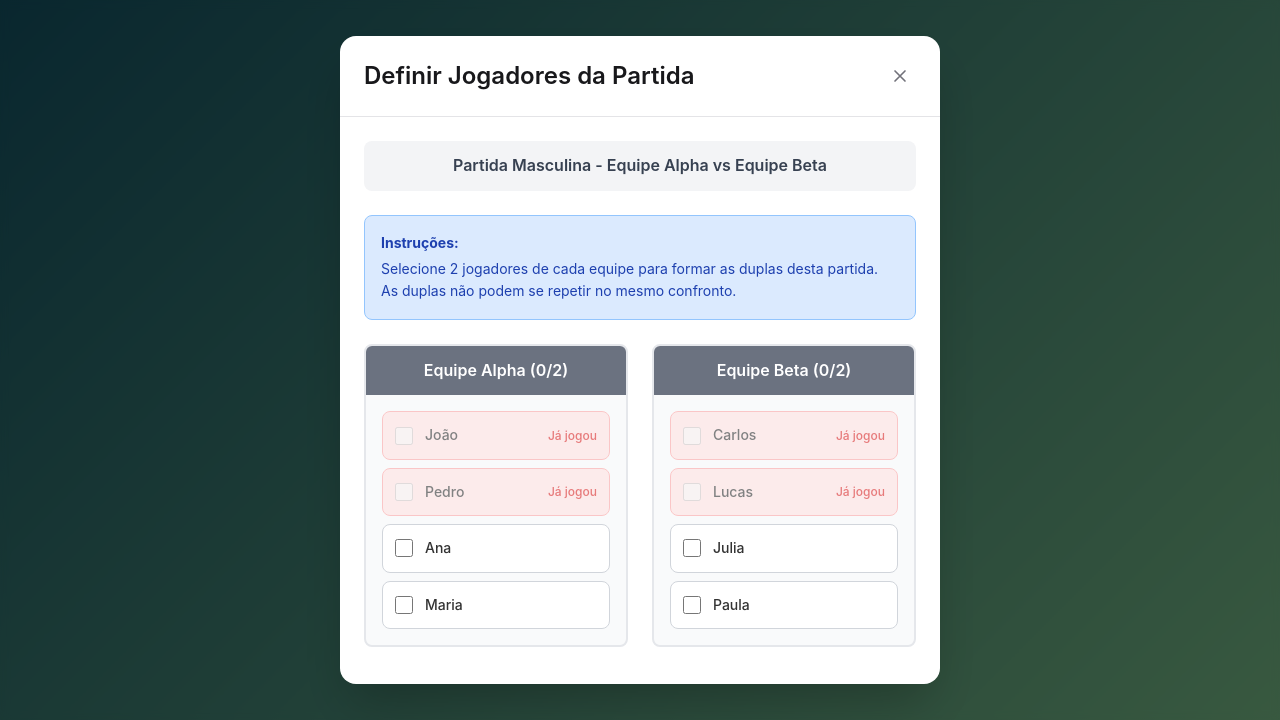
Scenario: ModalDefinirJogadoresPartida › validação de jogadores já usados › deve mostrar erro ao tentar selecionar jogador que já jogou
// Tentar selecionar João que já jogou
Click the checkbox labelled "João Já jogou": (404, 436) [395, 426, 413, 444]
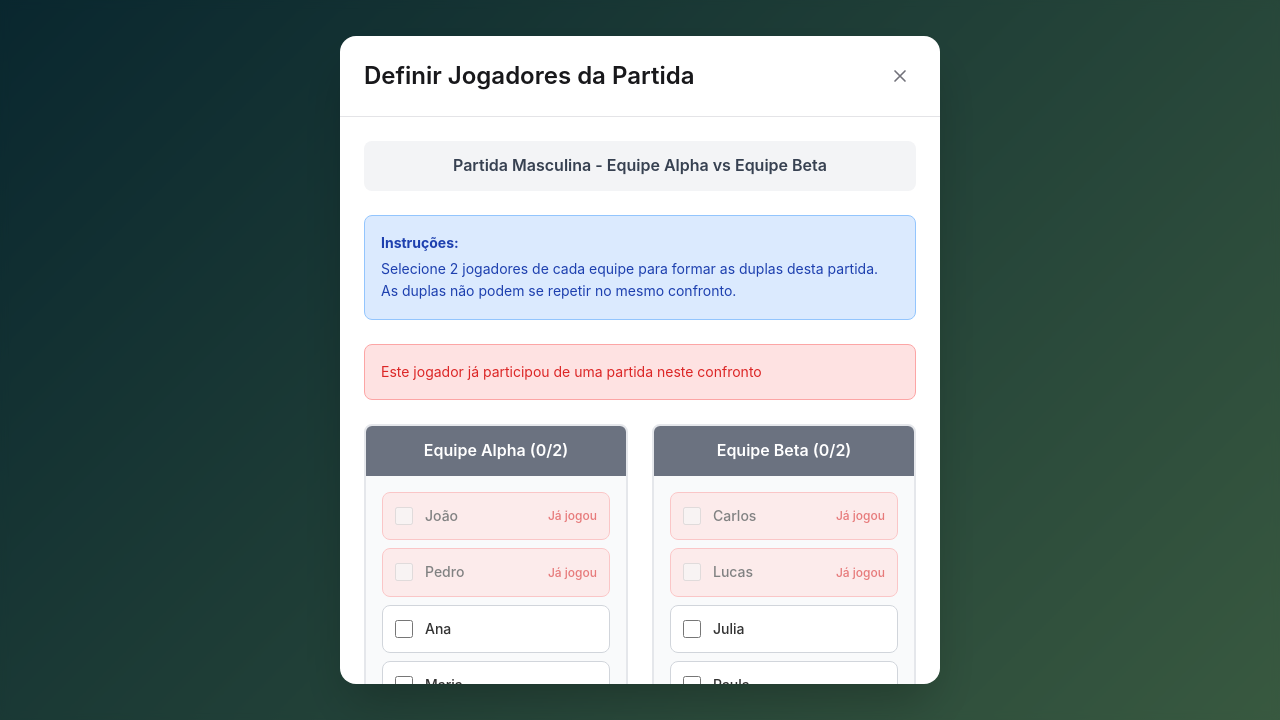
Expected: the text "Este jogador já participou de uma partida neste confronto" is shown, [364, 344, 916, 400]
